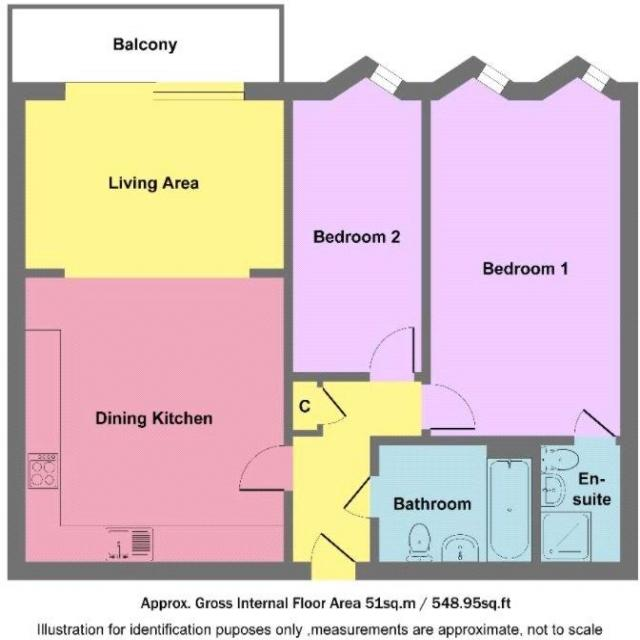DOOR: (362, 322, 421, 384), (420, 380, 480, 436), (235, 438, 294, 494), (306, 529, 363, 580)
ROOM: (6, 80, 295, 582), (421, 52, 640, 444), (283, 51, 432, 382)
WINDOW: (471, 56, 515, 100), (572, 57, 616, 96), (365, 58, 406, 96)
